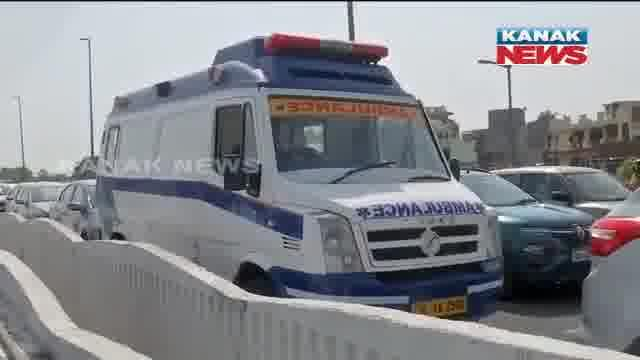AMBULANCE: (91, 27, 509, 328)
